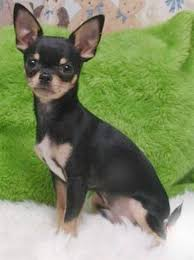chihuahua: (8, 1, 183, 237)
